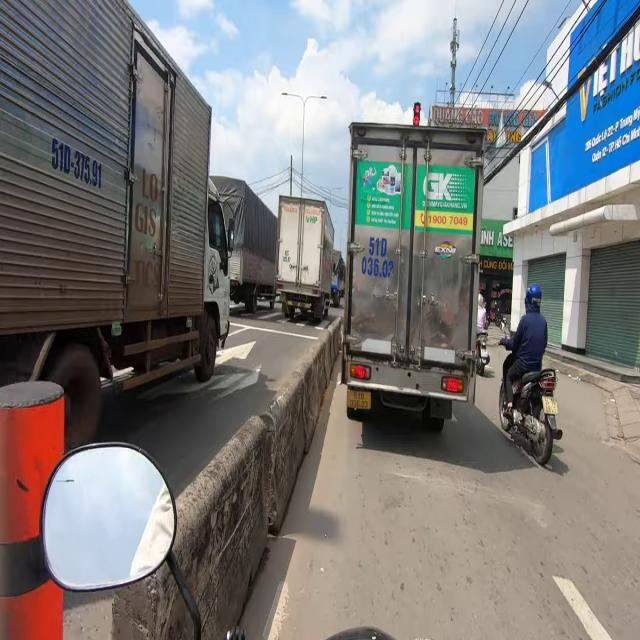bien_trang: (542, 390, 559, 418)
bien_vang: (346, 387, 372, 412)
